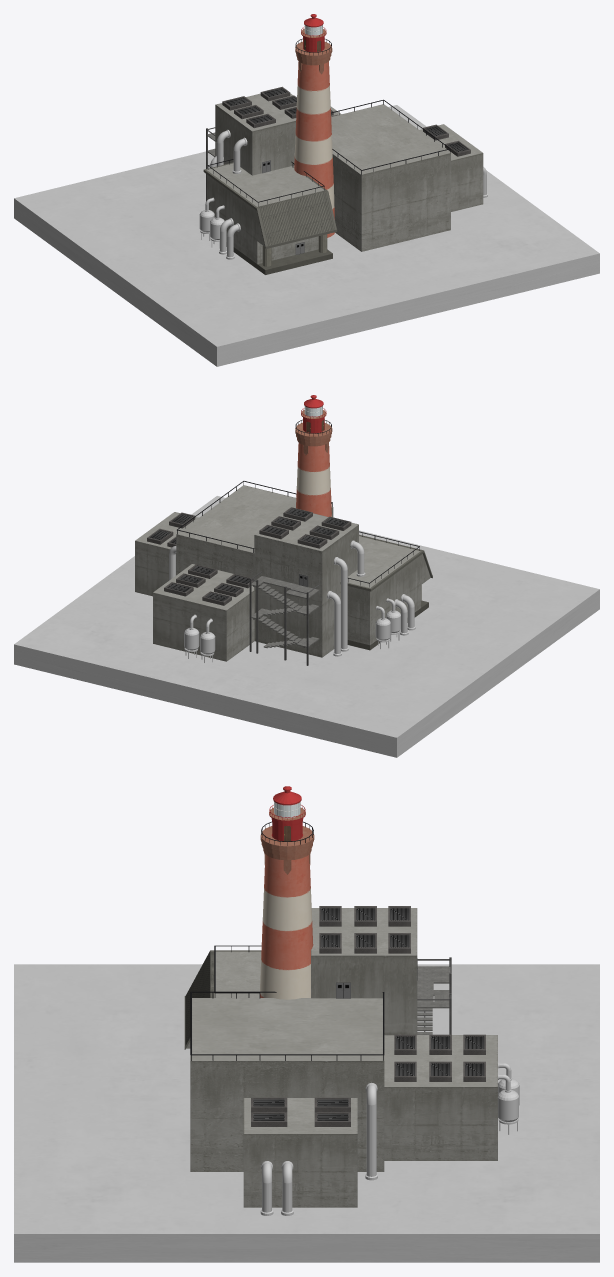
Rendered from LightHouseMerged.fbx.
The picture shows the model from 3 angles, top to bottom: view 1: azimuth 30°, elevation 25°; view 2: azimuth 150°, elevation 25°; view 3: azimuth 270°, elevation 25°; orthographic projection. The views are drawn at different scales.
Parts seen in each view (by area): view 1: Base1; view 2: Base1; view 3: Base1.
Part boxes in pixels (x1,y1,x2,y2): Base1: [14, 14, 599, 366]; Base1: [14, 395, 599, 757]; Base1: [14, 786, 599, 1262].
Size of the model in its own units: 1467 by 865 by 1347.
